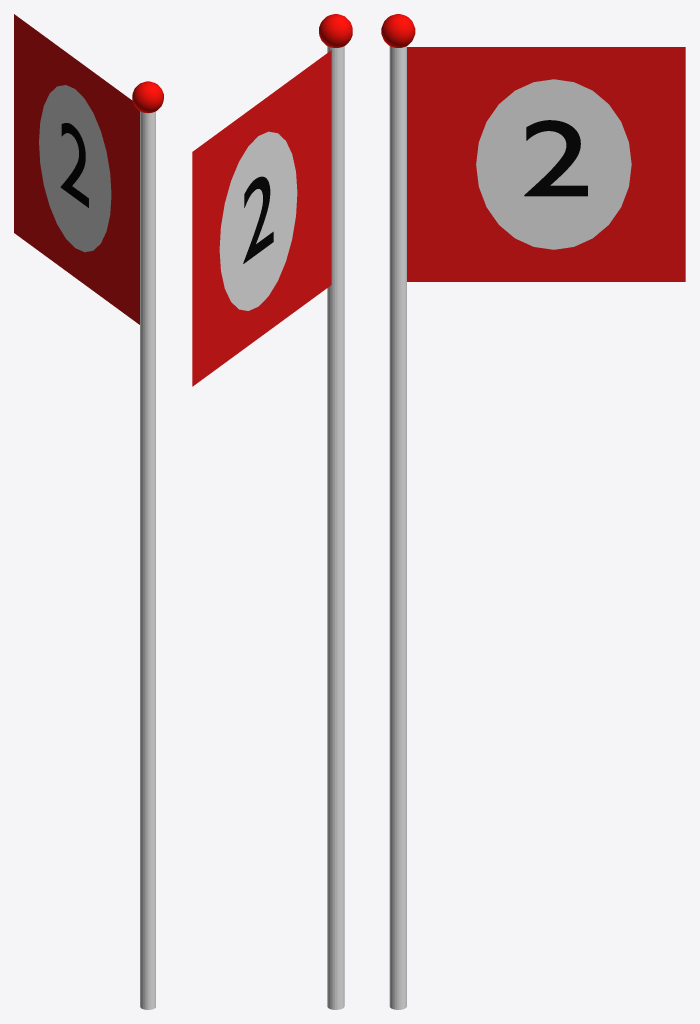
Rendered from Flag 2.fbx.
The picture shows the model from 3 angles, left to right: view 1: azimuth 30°, elevation 25°; view 2: azimuth 150°, elevation 25°; view 3: azimuth 270°, elevation 25°; orthographic projection. The views are drawn at different scales.
Visible parts, largest first — view 1: Plane.001, Cylinder.001, Circle.001, 1.002, Sphere.001; view 2: Plane.001, Cylinder.001, Circle.001, 1.002, Sphere.001; view 3: Plane.001, Circle.001, Cylinder.001, 1.003, Sphere.001.
Part boxes in pixels (bbox=[...]): Plane.001: bbox=[14, 14, 139, 324]; Cylinder.001: bbox=[140, 111, 155, 1009]; Circle.001: bbox=[39, 85, 111, 252]; 1.002: bbox=[60, 123, 88, 207]; Sphere.001: bbox=[132, 81, 163, 113]; Plane.001: bbox=[192, 50, 331, 386]; Cylinder.001: bbox=[327, 46, 344, 1009]; Circle.001: bbox=[219, 131, 297, 310]; 1.002: bbox=[243, 176, 273, 263]; Sphere.001: bbox=[319, 14, 352, 47]; Plane.001: bbox=[407, 47, 685, 281]; Circle.001: bbox=[476, 79, 631, 249]; Cylinder.001: bbox=[389, 46, 406, 1009]; 1.003: bbox=[524, 120, 587, 196]; Sphere.001: bbox=[381, 14, 415, 47].
Bounding box in the file's own units: 3.94 × 127 × 35.22.
